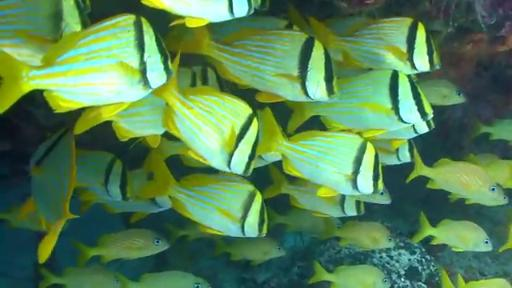Fish: (0, 14, 172, 112), (166, 27, 336, 102), (258, 108, 383, 195), (153, 73, 259, 175), (147, 153, 267, 237), (290, 8, 440, 74), (287, 70, 433, 136), (20, 128, 76, 263), (0, 0, 88, 66), (406, 151, 508, 206), (263, 165, 363, 217), (79, 169, 171, 222), (74, 94, 166, 147), (0, 0, 62, 65), (74, 229, 169, 266), (141, 0, 267, 27), (412, 212, 492, 251), (76, 150, 127, 200), (0, 0, 63, 40), (208, 16, 297, 41), (268, 208, 340, 238), (309, 261, 391, 287), (214, 237, 286, 264), (39, 265, 125, 287), (370, 118, 435, 147), (332, 221, 395, 250), (155, 134, 208, 167), (465, 154, 511, 187), (123, 271, 211, 287), (417, 79, 466, 105), (178, 65, 226, 91), (371, 139, 415, 165), (0, 206, 44, 231), (323, 16, 375, 37), (60, 0, 91, 35), (166, 221, 211, 243), (473, 119, 511, 142), (457, 275, 511, 287), (255, 152, 282, 167), (499, 224, 511, 252), (440, 268, 455, 287)
